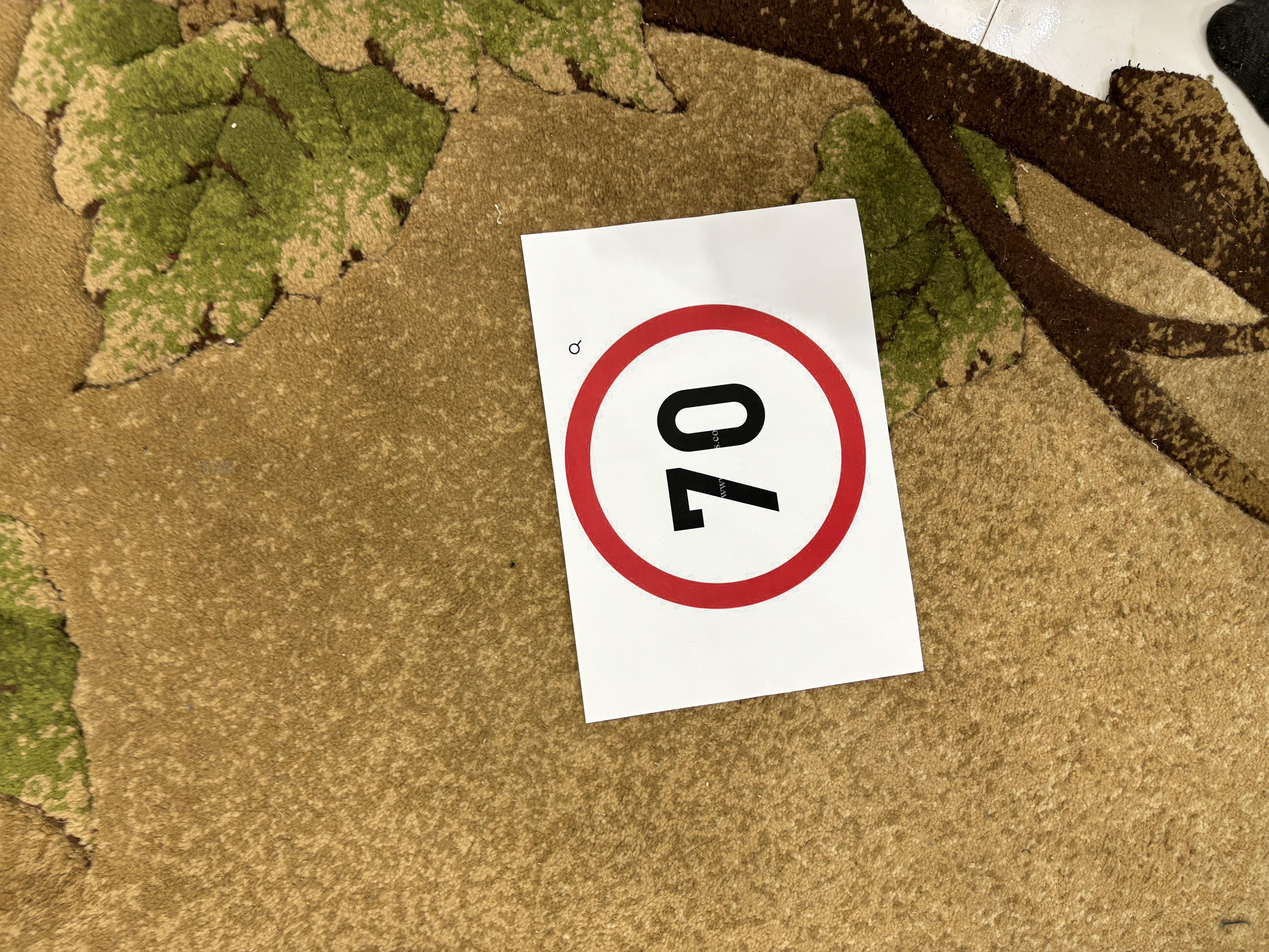70-Speed: (560, 298, 869, 617)
